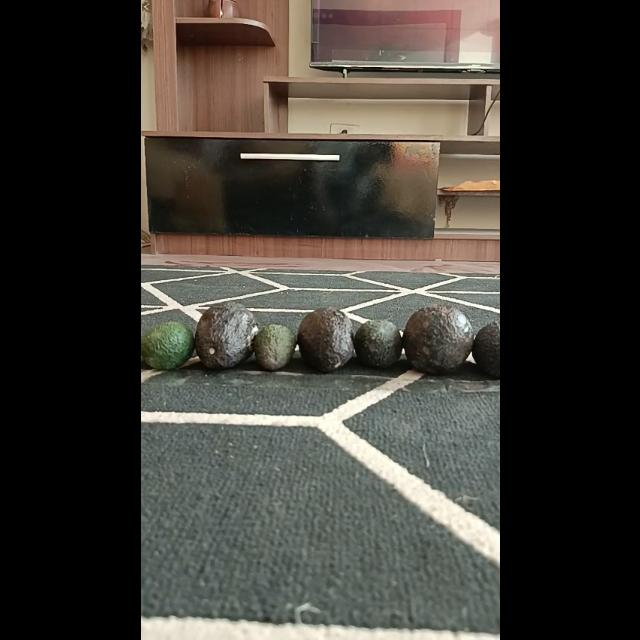Primera: (402, 304, 474, 374), (194, 302, 256, 368), (296, 307, 354, 371)
Segunda: (140, 320, 193, 370), (353, 318, 403, 368)
Tercera: (252, 324, 294, 370)
